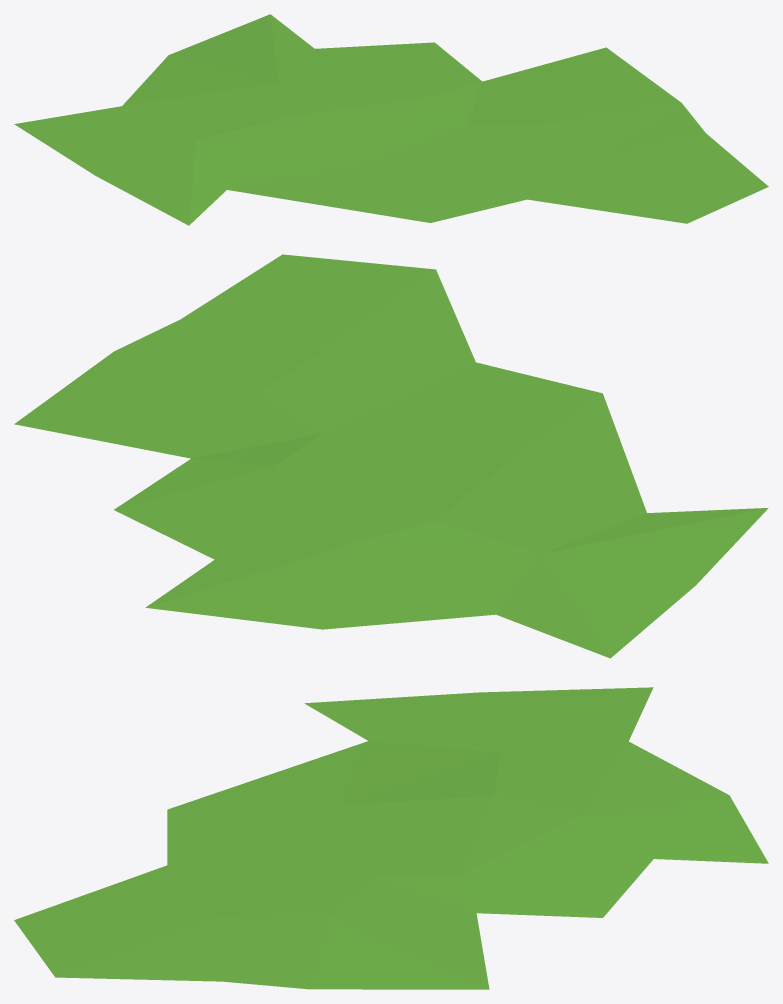
The model's file is Isl-islet6-Relief.fbx.
3 renders of one model, top to bottom at view 1: azimuth 30°, elevation 25°; view 2: azimuth 150°, elevation 25°; view 3: azimuth 270°, elevation 25°, orthographic. The views are drawn at different scales.
Parts seen in each view (by area): view 1: Isl-islet6-Relief; view 2: Isl-islet6-Relief; view 3: Isl-islet6-Relief.
Part boxes in pixels (x1=…): Isl-islet6-Relief: x1=14, y1=14, x2=768, y2=225; Isl-islet6-Relief: x1=14, y1=254, x2=768, y2=658; Isl-islet6-Relief: x1=14, y1=687, x2=768, y2=989.
Size of the model in its own units: 5.03 by 0.0599 by 5.31.
